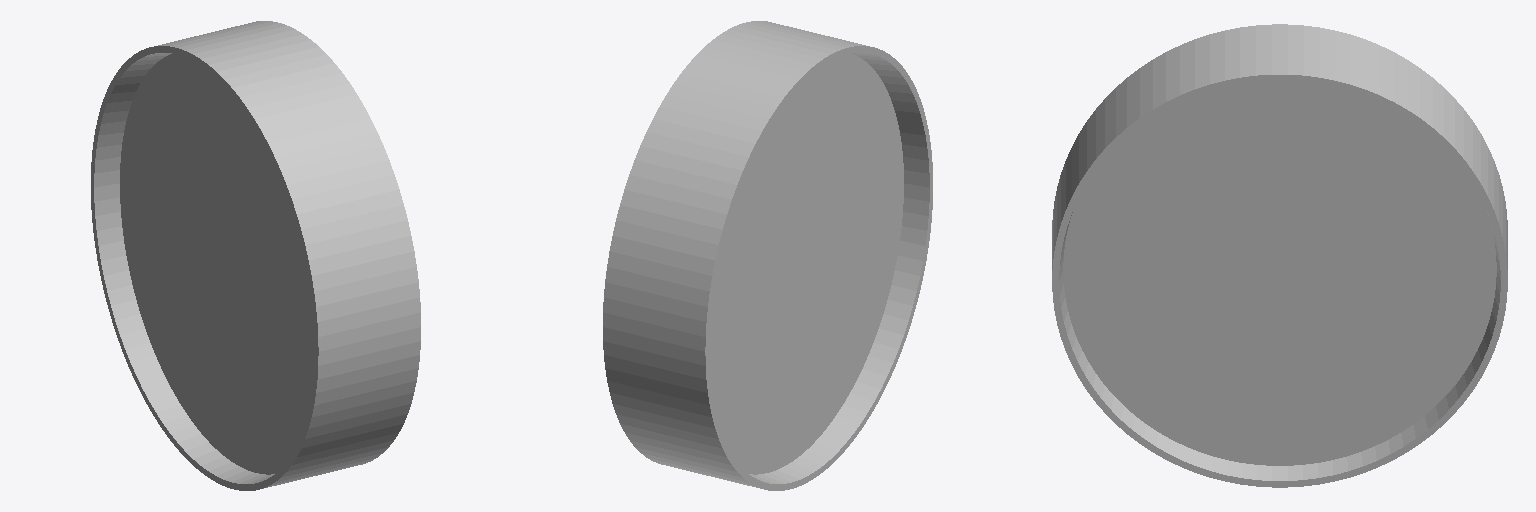
Rendered from gamePiece2.obj.
The picture shows the model from 3 angles: view 1: azimuth 30°, elevation 25°; view 2: azimuth 150°, elevation 25°; view 3: azimuth 270°, elevation 25°; orthographic projection.
Parts seen in each view (by area): view 1: gamePiece; view 2: gamePiece; view 3: gamePiece.
Part boxes in pixels (x1,y1,x2,y2): gamePiece: (91, 21, 420, 490); gamePiece: (603, 21, 932, 490); gamePiece: (1052, 24, 1507, 487).
Size of the model in its own units: 42.87 by 165 by 165.